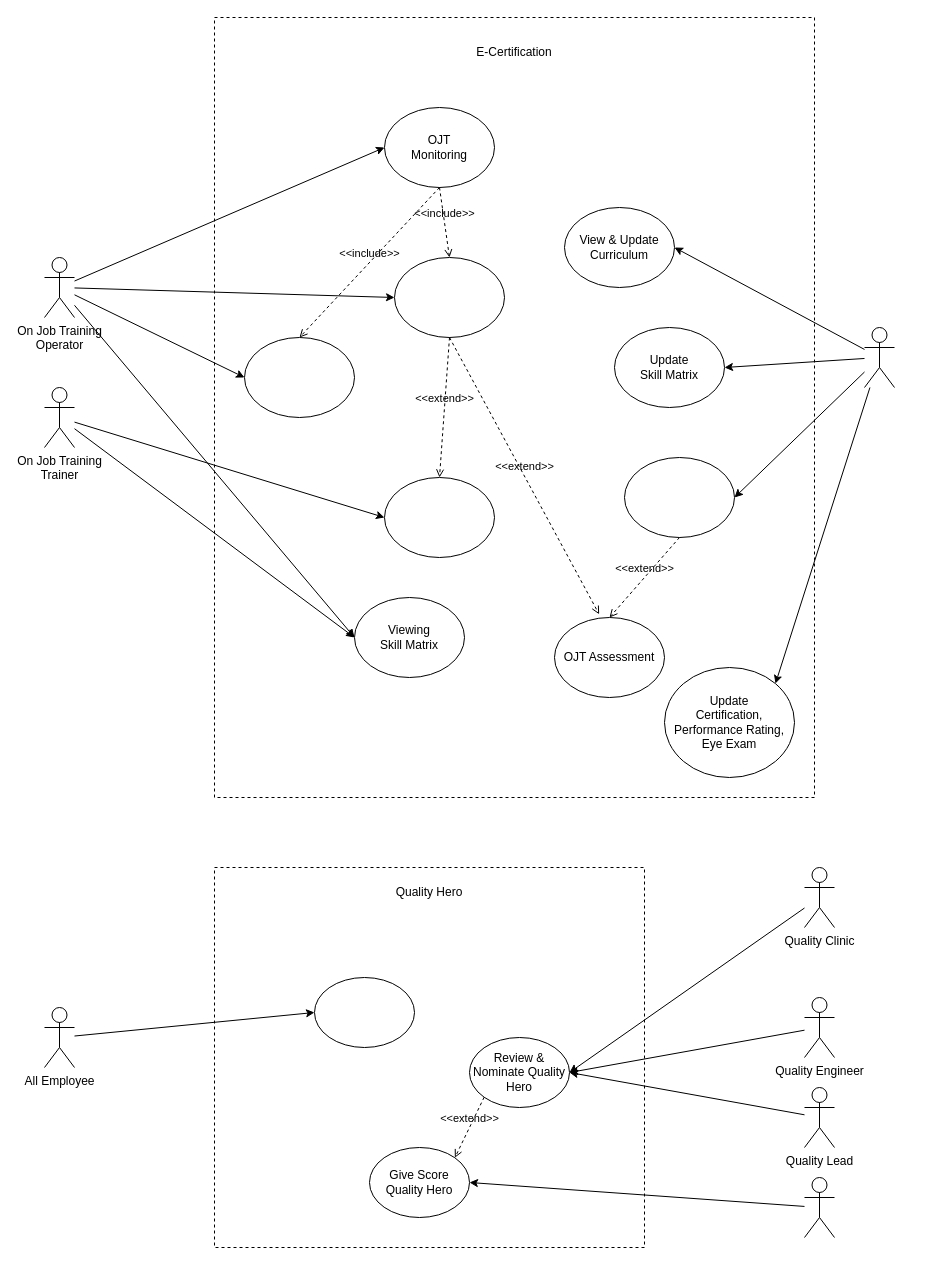
Some shapes in this 938 by 1276 pixel diagram are drawn without their labels. Each missing label, with the centre of its shape:
COP Assessment: the point at 679,497
OJT Daily Record: the point at 449,297
OJT Part Record: the point at 299,377
Performance Rating: the point at 439,517
SLT: the point at 819,1207
Submit Quality Hero: the point at 364,1012
Training School: the point at 879,357
